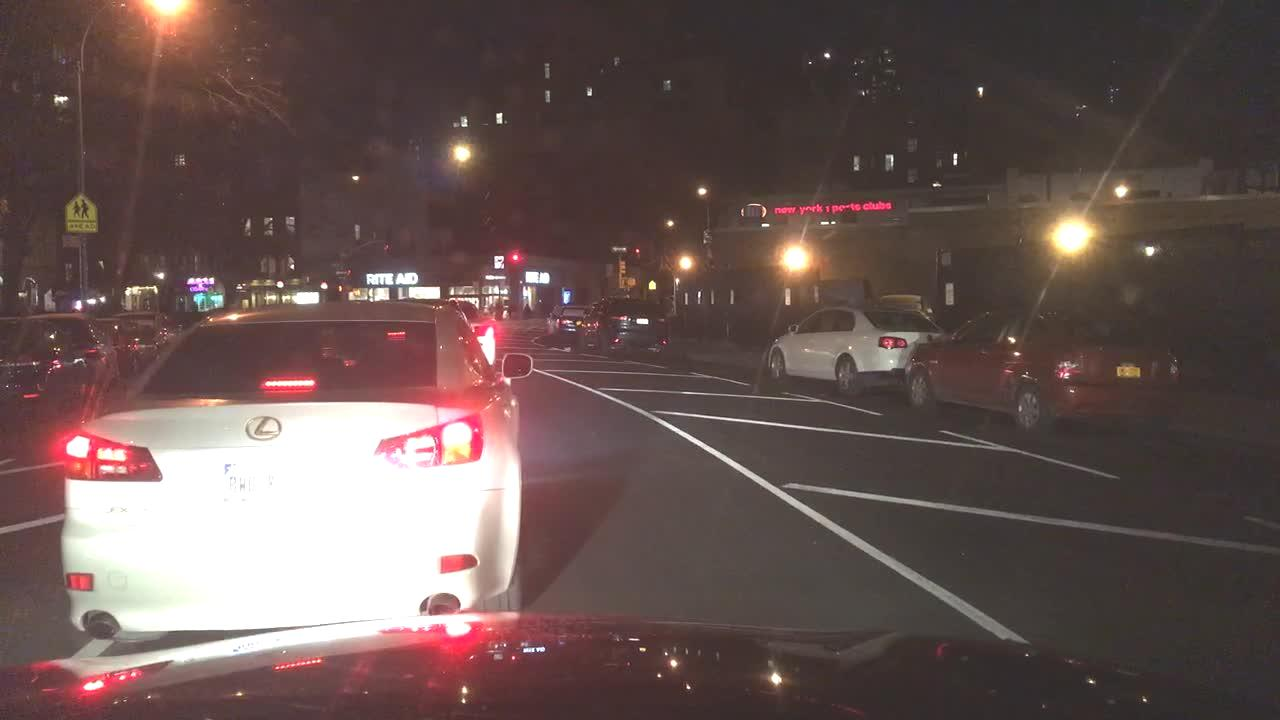lexus: (238, 409, 284, 447)
